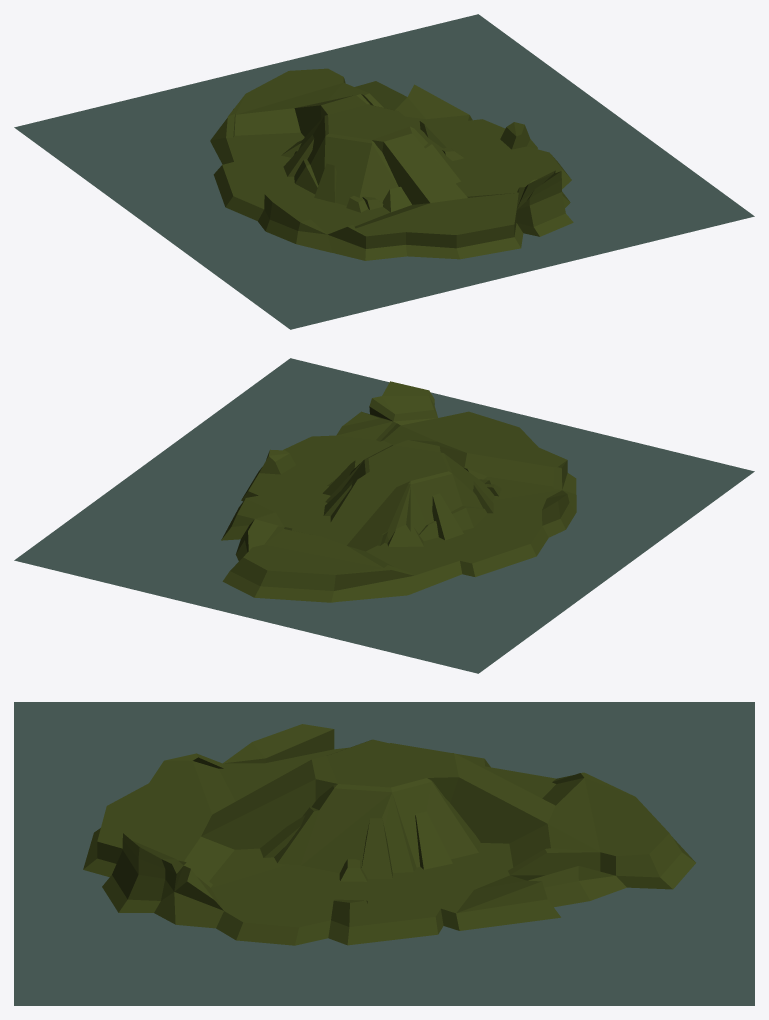
File: Island.fbx
3 renders of one model, top to bottom at view 1: azimuth 30°, elevation 25°; view 2: azimuth 150°, elevation 25°; view 3: azimuth 270°, elevation 25°, orthographic. The views are drawn at different scales.
Visible parts, largest first — view 1: pasted__Sea1, pasted__Island; view 2: pasted__Sea1, pasted__Island; view 3: pasted__Sea1, pasted__Island.
Part boxes in pixels (<box>): pasted__Sea1: <box>14,14,754,329</box>; pasted__Island: <box>210,68,573,260</box>; pasted__Sea1: <box>14,358,754,673</box>; pasted__Island: <box>221,381,576,602</box>; pasted__Sea1: <box>14,702,754,1005</box>; pasted__Island: <box>83,724,695,945</box>.
Size of the model in its own units: 1480 by 177 by 1526.
